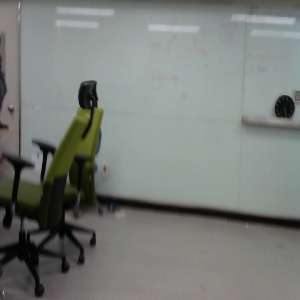Drone: (1, 38, 109, 294)
